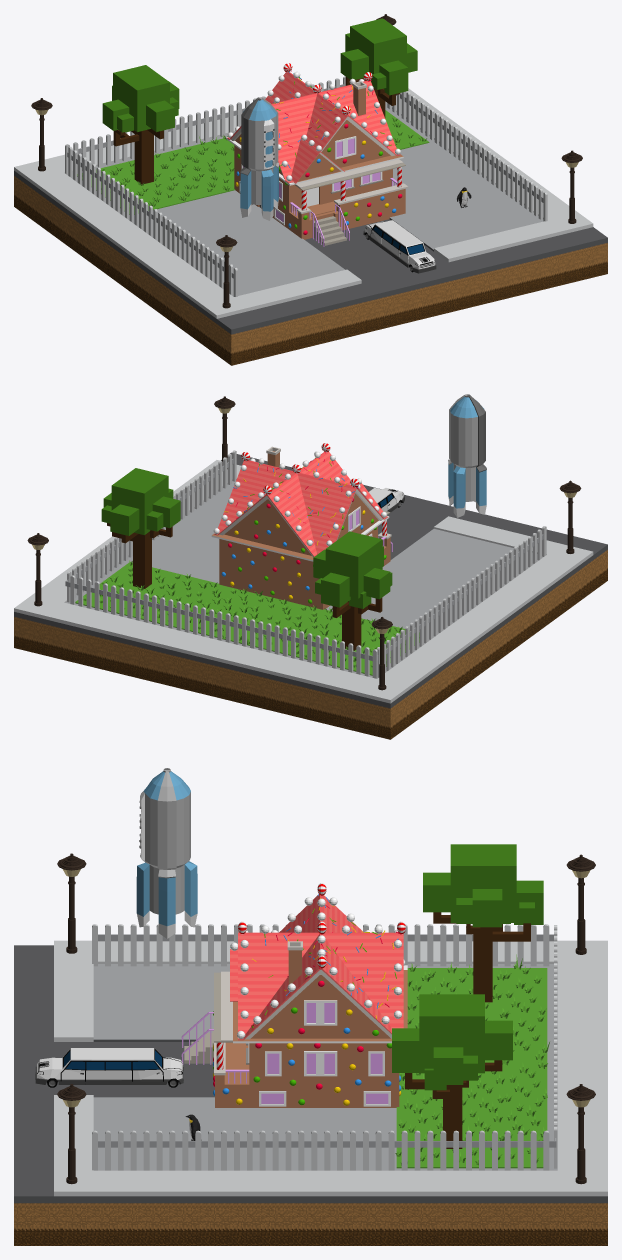
3 views of the same model, one above another, from view 1: azimuth 30°, elevation 25°; view 2: azimuth 150°, elevation 25°; view 3: azimuth 270°, elevation 25° (orthographic). The views are drawn at different scales.
Visible parts, largest first — view 1: Cube.004, Cube.1203, OBJRANDOM_ROCKETSHIP, VEHICLES_LIMOUSINE; view 2: Cube.004, Cube.1203, OBJRANDOM_ROCKETSHIP, VEHICLES_LIMOUSINE; view 3: Cube.004, Cube.1203, OBJRANDOM_ROCKETSHIP, VEHICLES_LIMOUSINE.
Part boxes in pixels (left/top/right/bottom): Cube.004: left=14, top=14, right=607, bottom=365; Cube.1203: left=226, top=63, right=408, bottom=246; OBJRANDOM_ROCKETSHIP: left=240, top=97, right=279, bottom=220; VEHICLES_LIMOUSINE: left=363, top=220, right=436, bottom=273; Cube.004: left=14, top=396, right=607, bottom=739; Cube.1203: left=211, top=443, right=392, bottom=609; OBJRANDOM_ROCKETSHIP: left=448, top=394, right=486, bottom=517; VEHICLES_LIMOUSINE: left=369, top=488, right=404, bottom=512; Cube.004: left=14, top=844, right=607, bottom=1245; Cube.1203: left=181, top=883, right=407, bottom=1107; OBJRANDOM_ROCKETSHIP: left=136, top=768, right=197, bottom=938; VEHICLES_LIMOUSINE: left=35, top=1048, right=183, bottom=1087.
Bounding box in the file's own units: 4000 × 2170 × 4000.
47 materials, 4 textured.
